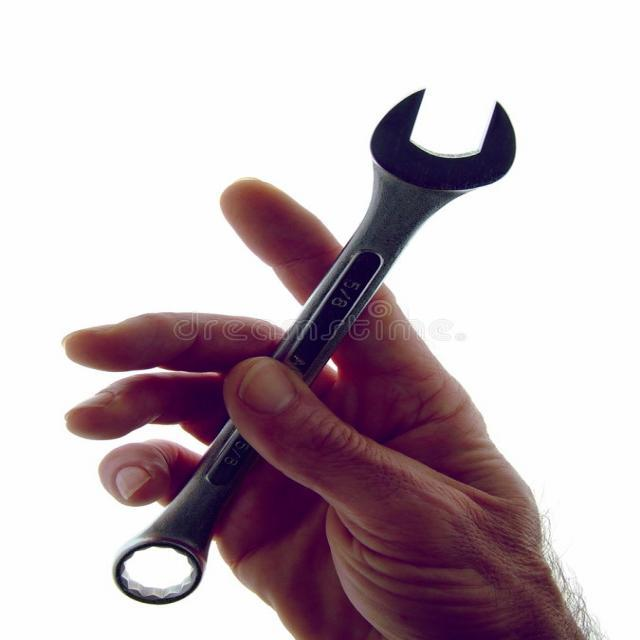wrench: (108, 85, 518, 607)
